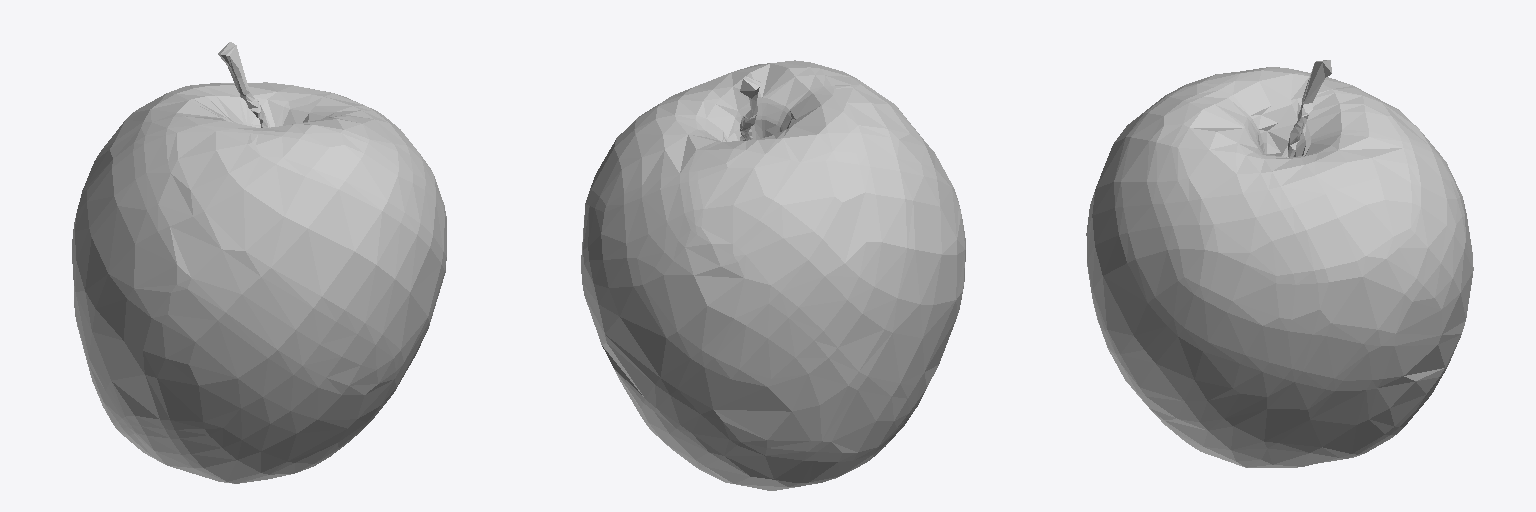
The model's file is apple.obj.
The picture shows the model from 3 angles: view 1: azimuth 30°, elevation 25°; view 2: azimuth 150°, elevation 25°; view 3: azimuth 270°, elevation 25°; orthographic projection.
Visible parts, largest first — view 1: apple:objapple; view 2: apple:objapple; view 3: apple:objapple.
Boxes of the visible parts, <box> form: apple:objapple: <box>72,42,446,483</box>; apple:objapple: <box>581,60,965,490</box>; apple:objapple: <box>1086,60,1473,467</box>.
Size of the model in its own units: 3.5 by 4.03 by 3.61.